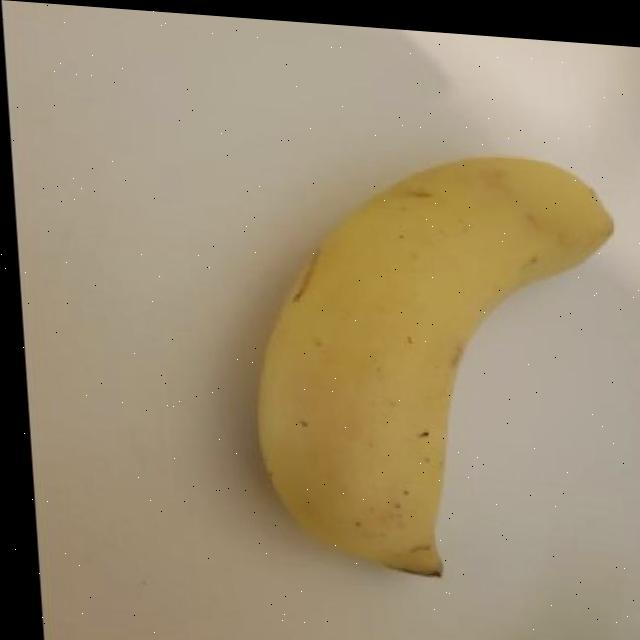banana: (225, 129, 640, 598)
